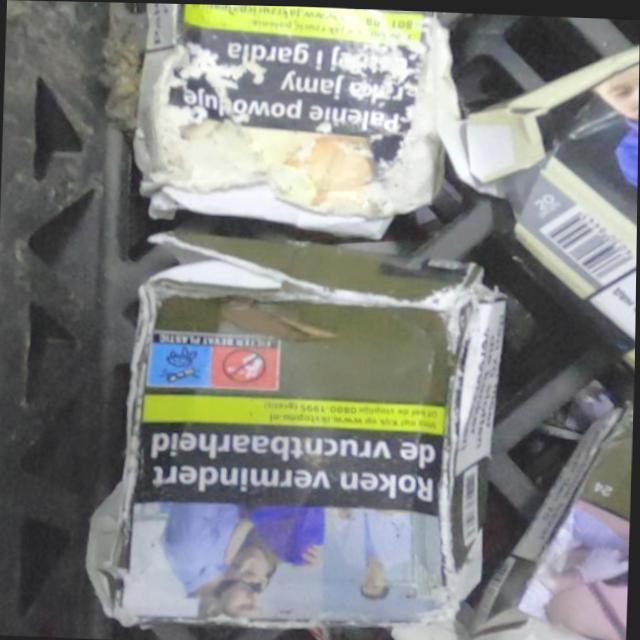Paper: (80, 225, 513, 640), (125, 2, 471, 242), (389, 385, 635, 640), (462, 30, 640, 375)
